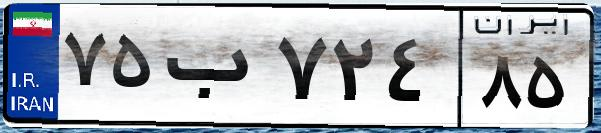2: (330, 28, 385, 110)
4: (385, 28, 445, 110)
5: (525, 38, 570, 115), (110, 28, 158, 98)
7: (270, 28, 330, 110), (57, 26, 110, 100)
8: (475, 38, 525, 113)
ب: (158, 20, 270, 120)
